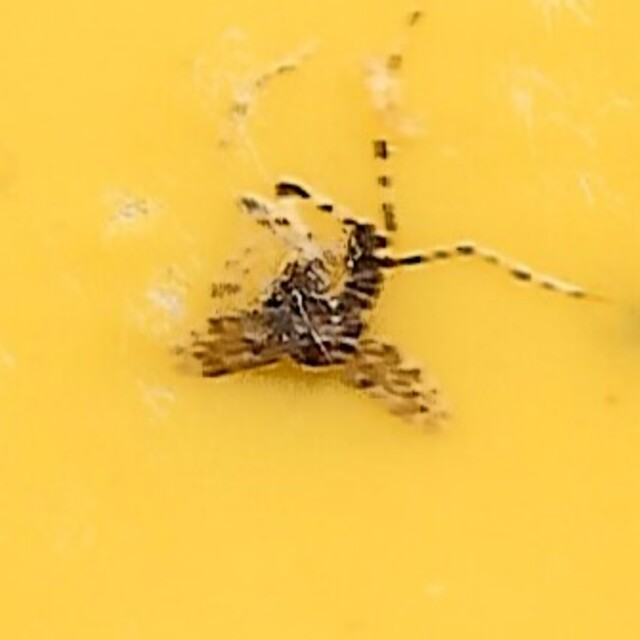Nematocera: (191, 212, 449, 428)
